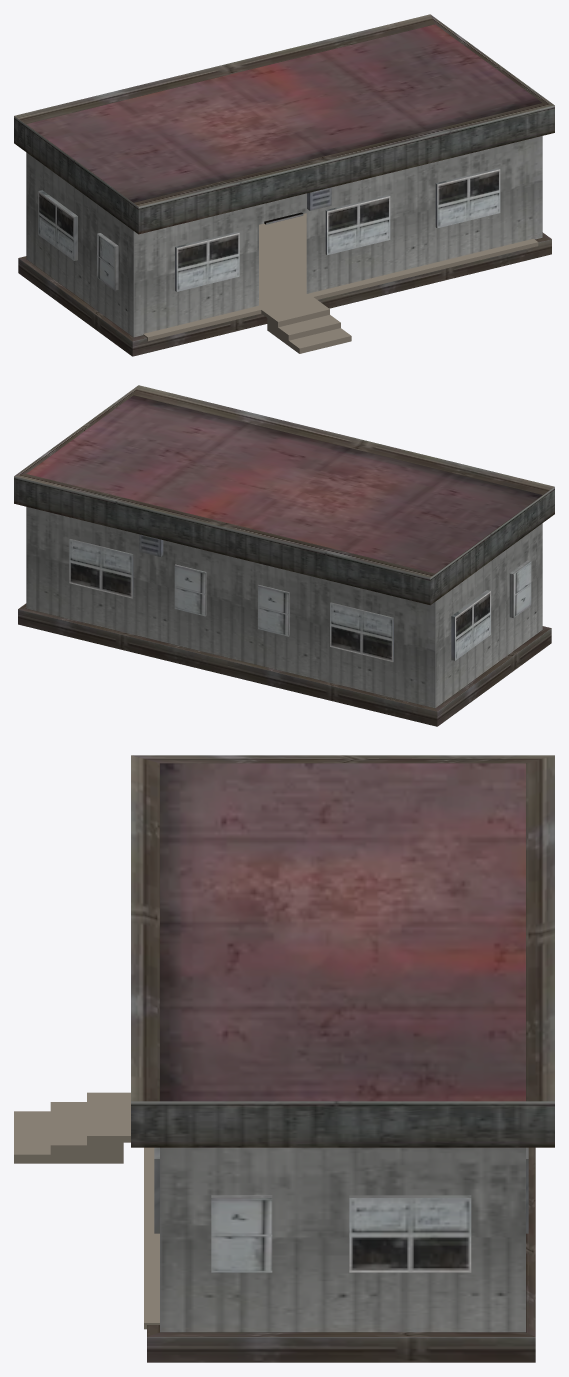
File: ind-office-trailer.access-v2.lod0.glb
The picture shows the model from 3 angles, top to bottom: view 1: azimuth 30°, elevation 25°; view 2: azimuth 150°, elevation 25°; view 3: azimuth 270°, elevation 25°; orthographic projection. The views are drawn at different scales.
Visible parts, largest first — view 1: Industrial_OfficeTrailer_1_Industrial_Walls_FLR_1_0, Industrial_OfficeTrailer_1_Industrial_Trim_FLR_1_0, Walkable floors and stairs; view 2: Industrial_OfficeTrailer_1_Industrial_Walls_FLR_1_0, Industrial_OfficeTrailer_1_Industrial_Trim_FLR_1_0; view 3: Industrial_OfficeTrailer_1_Industrial_Walls_FLR_1_0, Industrial_OfficeTrailer_1_Industrial_Trim_FLR_1_0, Walkable floors and stairs.
Boxes of the visible parts, bbox=[...] form: Industrial_OfficeTrailer_1_Industrial_Walls_FLR_1_0: bbox=[14, 14, 554, 356]; Industrial_OfficeTrailer_1_Industrial_Trim_FLR_1_0: bbox=[38, 168, 500, 291]; Walkable floors and stairs: bbox=[143, 213, 538, 353]; Industrial_OfficeTrailer_1_Industrial_Walls_FLR_1_0: bbox=[14, 385, 554, 726]; Industrial_OfficeTrailer_1_Industrial_Trim_FLR_1_0: bbox=[69, 534, 531, 661]; Industrial_OfficeTrailer_1_Industrial_Walls_FLR_1_0: bbox=[131, 755, 554, 1362]; Industrial_OfficeTrailer_1_Industrial_Trim_FLR_1_0: bbox=[154, 1147, 528, 1272]; Walkable floors and stairs: bbox=[14, 1092, 159, 1329].
Size of the model in its own units: 11.28 by 3.93 by 7.4.
3 materials, 2 textured.
